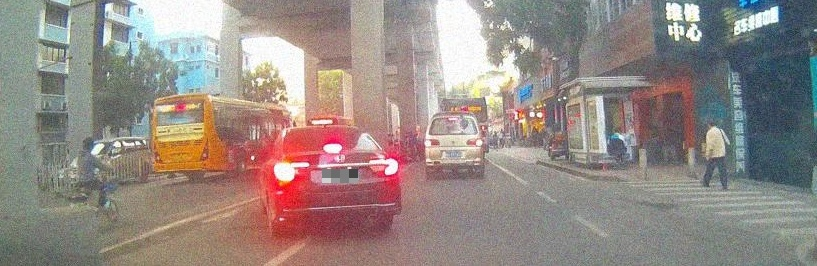L_light: (274, 162, 309, 182), (153, 143, 163, 164), (425, 139, 441, 147)
R_light: (369, 158, 399, 176), (200, 138, 209, 161), (465, 138, 483, 147)
T_light: (323, 143, 342, 150), (171, 120, 185, 124), (448, 117, 458, 120)
day-brake: (424, 112, 484, 180)
day-left: (272, 125, 401, 237)
day-no: (152, 92, 216, 181)
plate_1: (322, 169, 358, 183)
